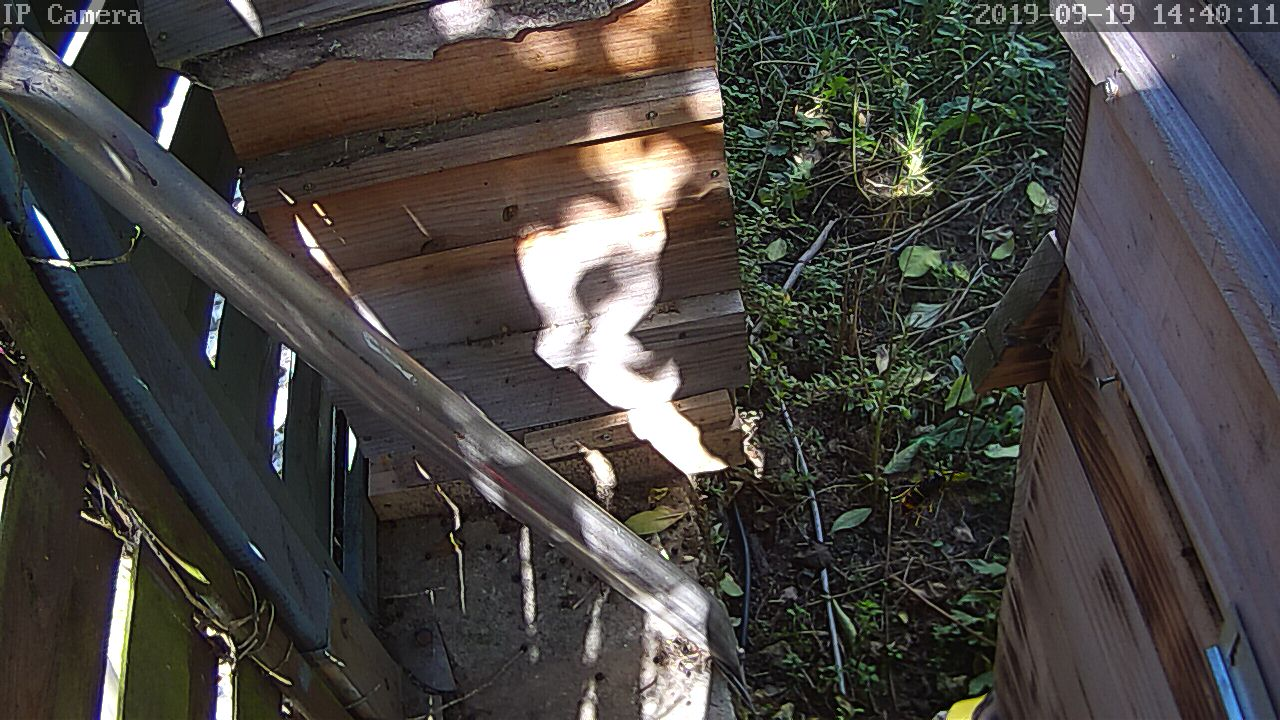bee: (1169, 540, 1201, 566)
hornet: (894, 460, 954, 524)
